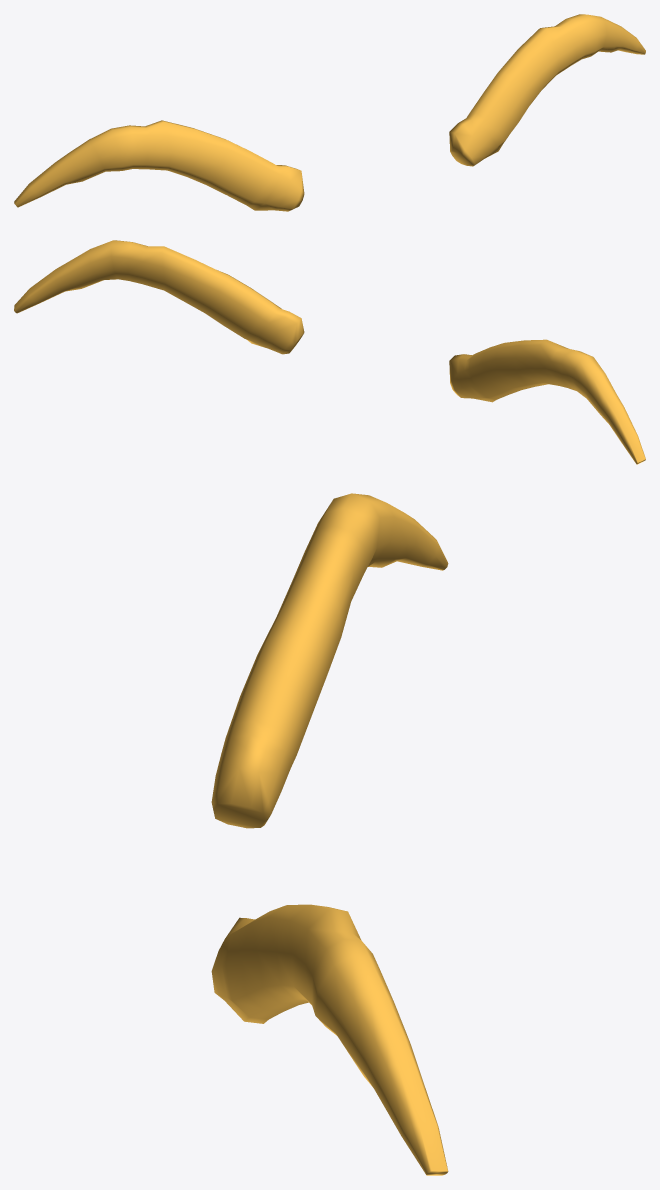
File: Eyebrows_18_05.fbx
3 views of the same model, one above another, from view 1: azimuth 30°, elevation 25°; view 2: azimuth 150°, elevation 25°; view 3: azimuth 270°, elevation 25° (orthographic). The views are drawn at different scales.
Visible parts, largest first — view 1: Eyebrows_18_05; view 2: Eyebrows_18_05; view 3: Eyebrows_18_05.
Boxes of the visible parts, x1,y1,x2,y2 form: Eyebrows_18_05: (14, 14, 645, 211); Eyebrows_18_05: (14, 240, 645, 464); Eyebrows_18_05: (211, 493, 448, 1175).
Bounding box in the file's own units: 18.22 × 2.68 × 2.96.
